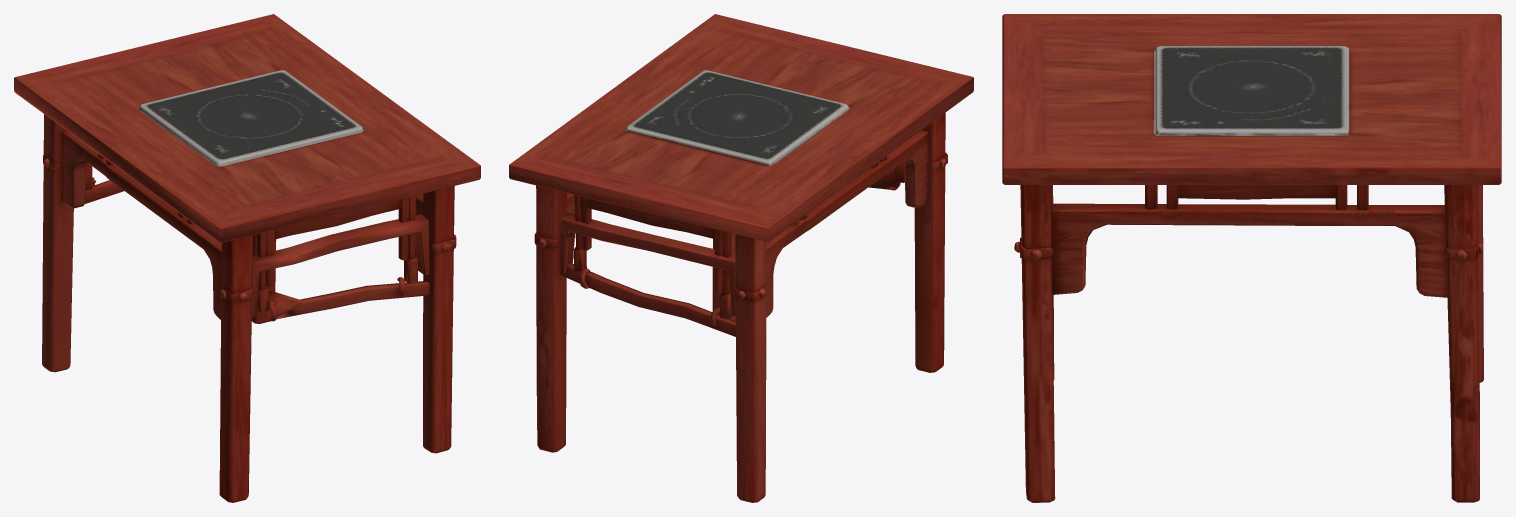
The picture shows the model from 3 angles, left to right: view 1: azimuth 30°, elevation 25°; view 2: azimuth 150°, elevation 25°; view 3: azimuth 270°, elevation 25°; orthographic projection. The views are drawn at different scales.
Visible parts, largest first — view 1: tripo_node_793ca3d5-f3c2-49f4-8126-fc2fa86ce3cd; view 2: tripo_node_793ca3d5-f3c2-49f4-8126-fc2fa86ce3cd; view 3: tripo_node_793ca3d5-f3c2-49f4-8126-fc2fa86ce3cd.
Boxes of the visible parts, x1,y1,x2,y2 form: tripo_node_793ca3d5-f3c2-49f4-8126-fc2fa86ce3cd: (14, 14, 480, 502); tripo_node_793ca3d5-f3c2-49f4-8126-fc2fa86ce3cd: (509, 14, 973, 502); tripo_node_793ca3d5-f3c2-49f4-8126-fc2fa86ce3cd: (1002, 14, 1501, 502).
Size of the model in its own units: 0.7246 by 0.7754 by 0.998.
1 material, 1 textured.
